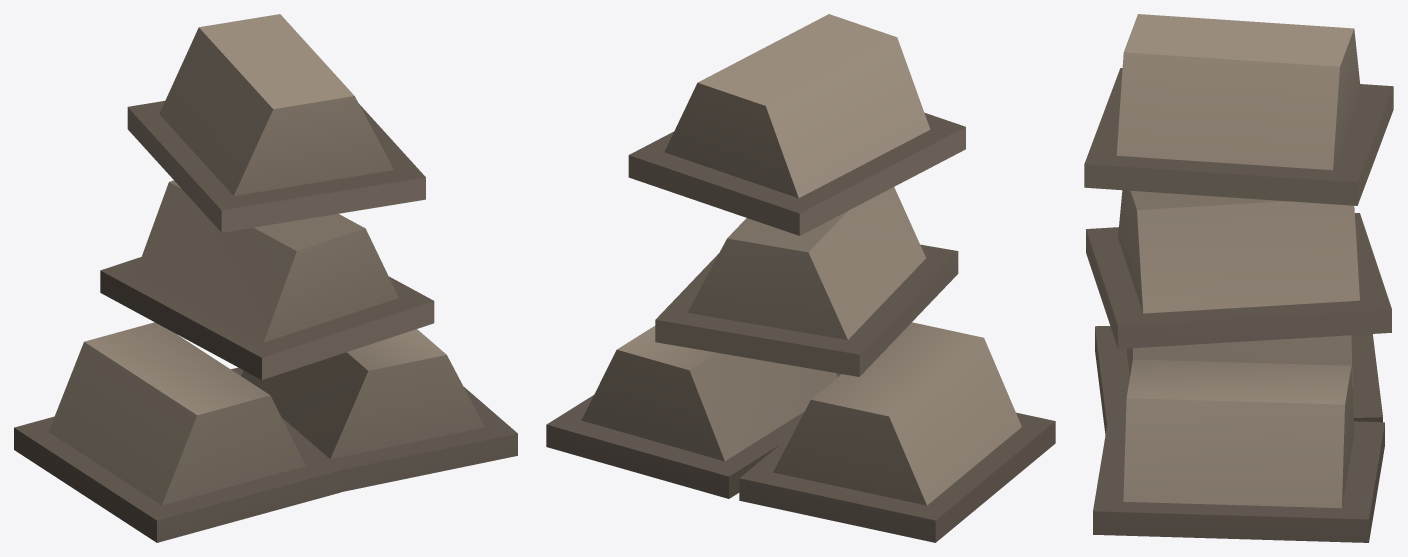
File: pots.lod2.glb
3 views of the same model, side by side, from view 1: azimuth 30°, elevation 25°; view 2: azimuth 150°, elevation 25°; view 3: azimuth 270°, elevation 25° (orthographic). The views are drawn at different scales.
Bounding box in the file's own units: 0.8186 × 0.7773 × 0.5366.
